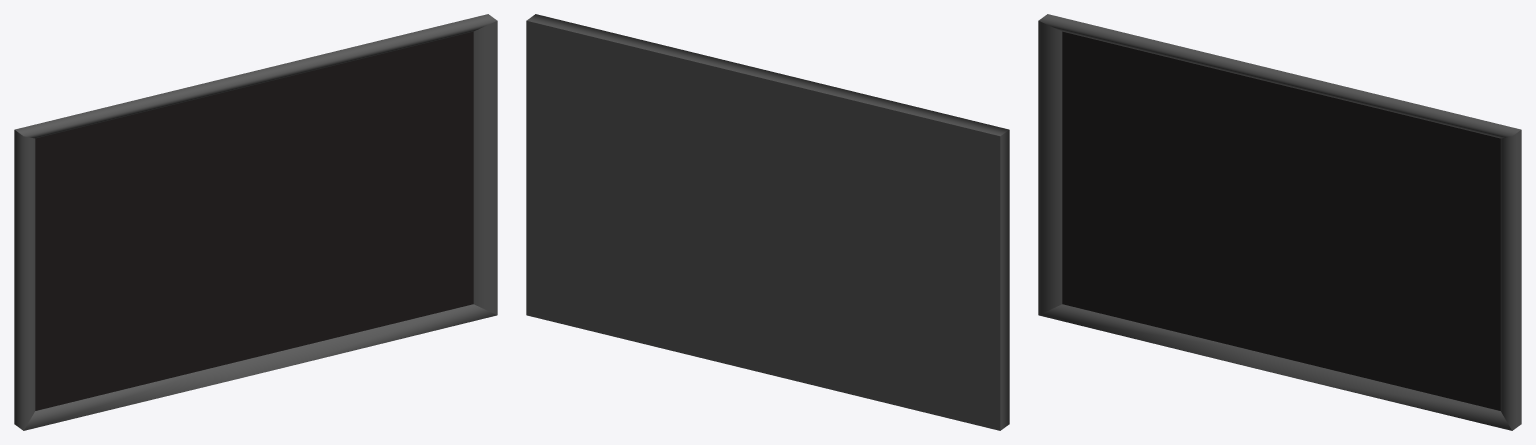
3 renders of one model, left to right at view 1: azimuth 30°, elevation 25°; view 2: azimuth 150°, elevation 25°; view 3: azimuth 330°, elevation 25°, orthographic.
Visible parts, largest first — view 1: pCube1; view 2: pCube1; view 3: pCube1.
Part boxes in pixels (x1,y1,x2,y2): pCube1: (14, 14, 497, 430); pCube1: (526, 14, 1009, 430); pCube1: (1038, 14, 1521, 430).
Size of the model in its own units: 13.49 by 8.02 by 0.4655.
Materials: 1 (1 with a texture image).
